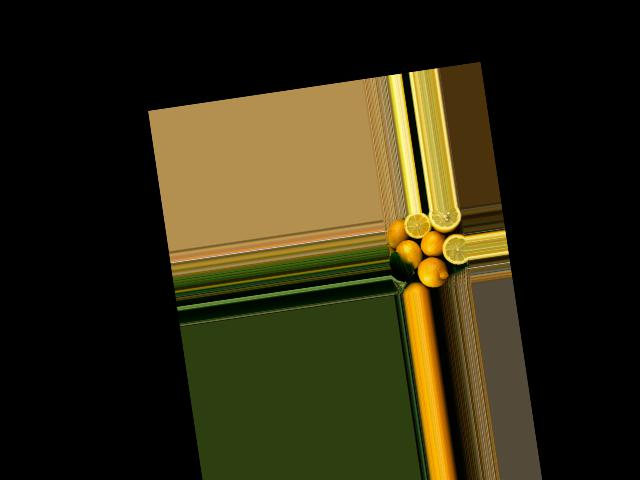lemon: (384, 217, 410, 250)
